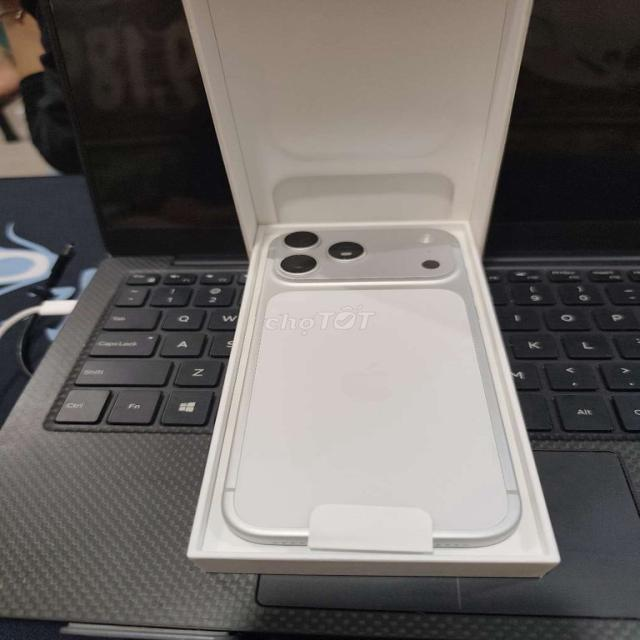gen_17: (242, 222, 512, 564)
